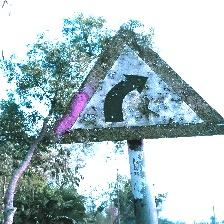Right-turn: (57, 26, 223, 139)
